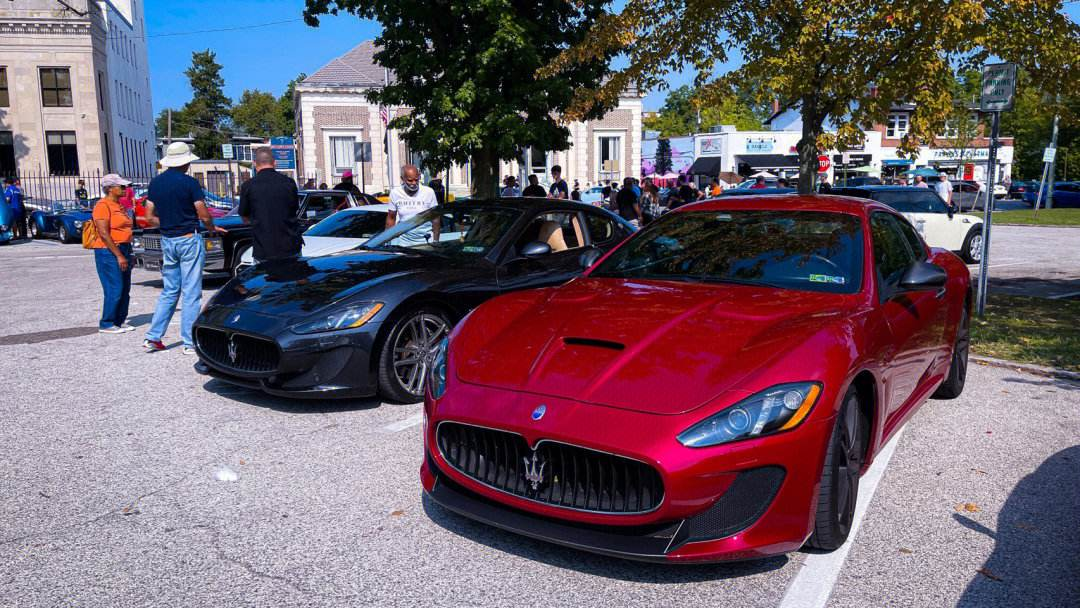other: (428, 180, 967, 572), (192, 209, 659, 418)
